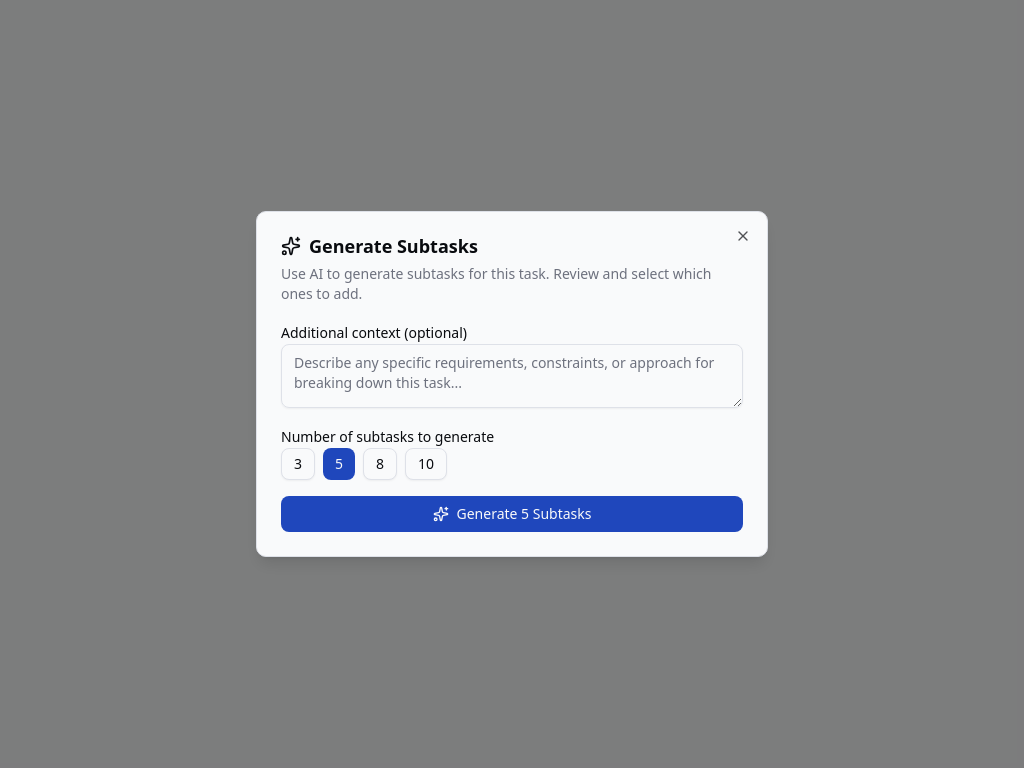
it: GenerateSubtasksDialog › updates selected count when toggling
Click the button "Generate 5 Subtasks" at (512, 514), box [281,496,743,532]
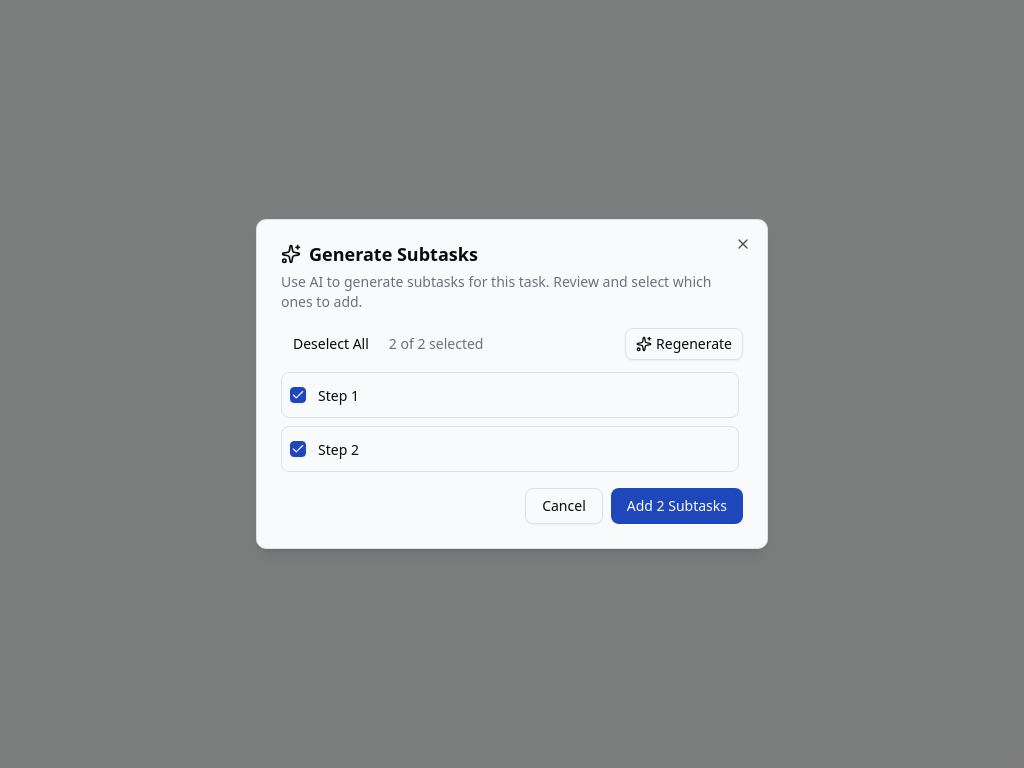
Click the checkbox named "Select Step 1" at (298, 395), box [290,387,306,403]
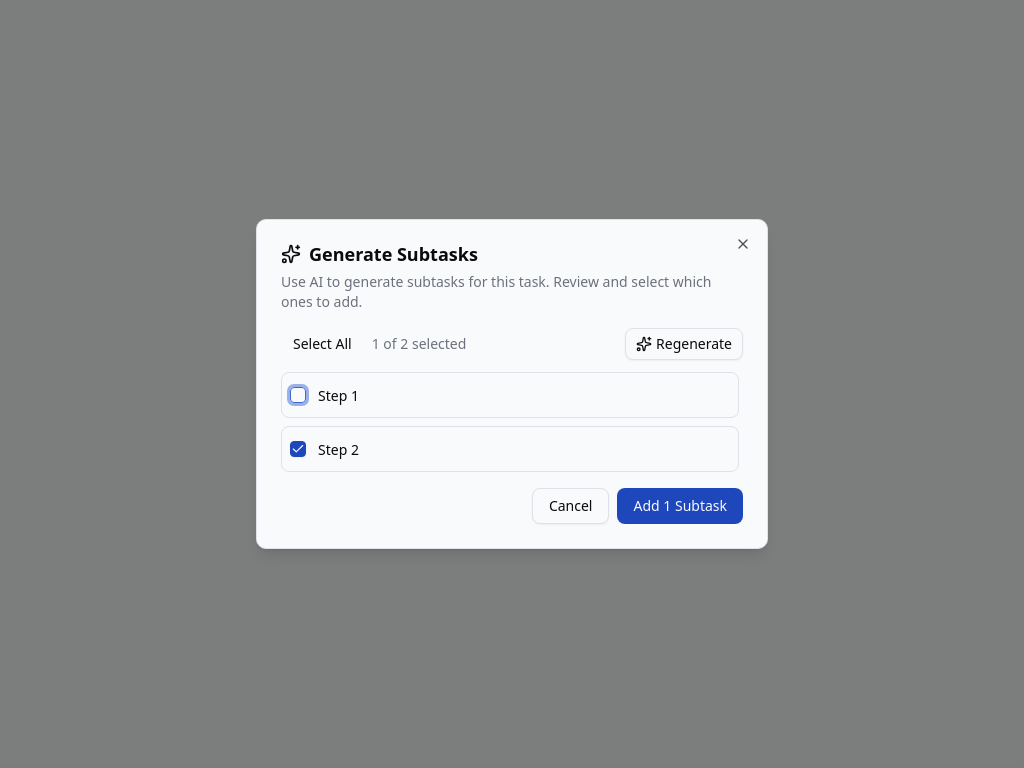
Now the text "1 of 2 selected" is shown, box [372,334,466,354]
Now the button "Add 1 Subtask" is shown, box [618,488,743,524]
